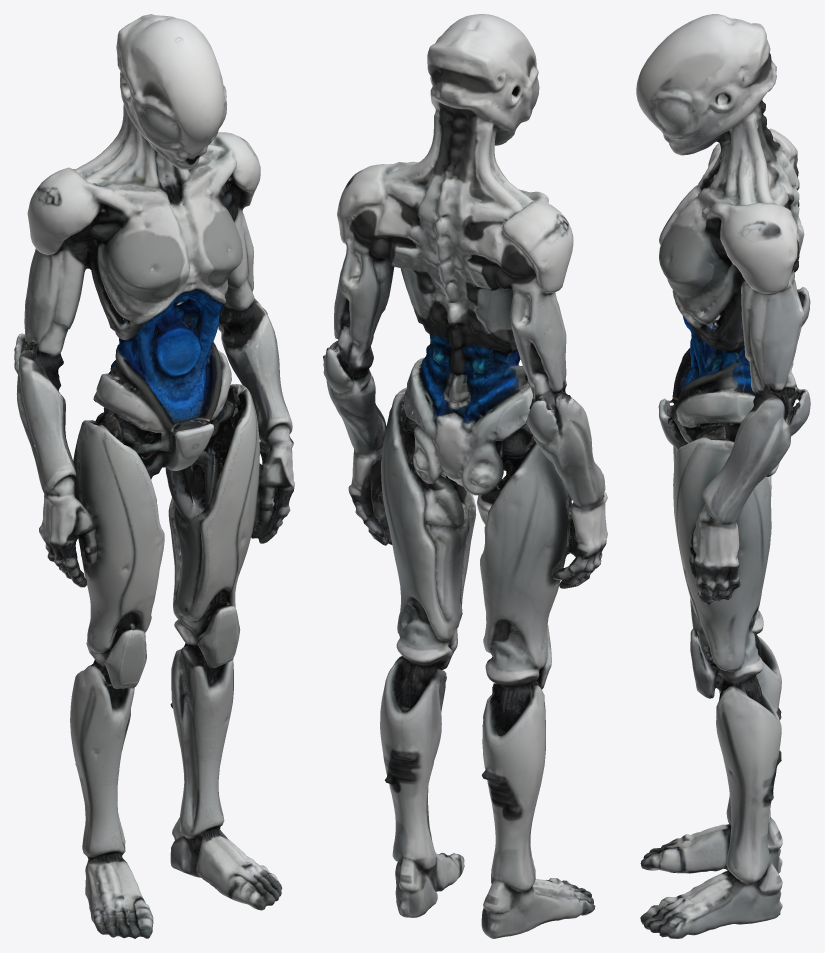
File: lazarosv-alien-3116.glb
The picture shows the model from 3 angles, left to right: view 1: azimuth 30°, elevation 25°; view 2: azimuth 150°, elevation 25°; view 3: azimuth 270°, elevation 25°; orthographic projection.
Bounding box in the file's own units: 0.5746 × 1.91 × 0.3434.
1 material, 1 textured.
